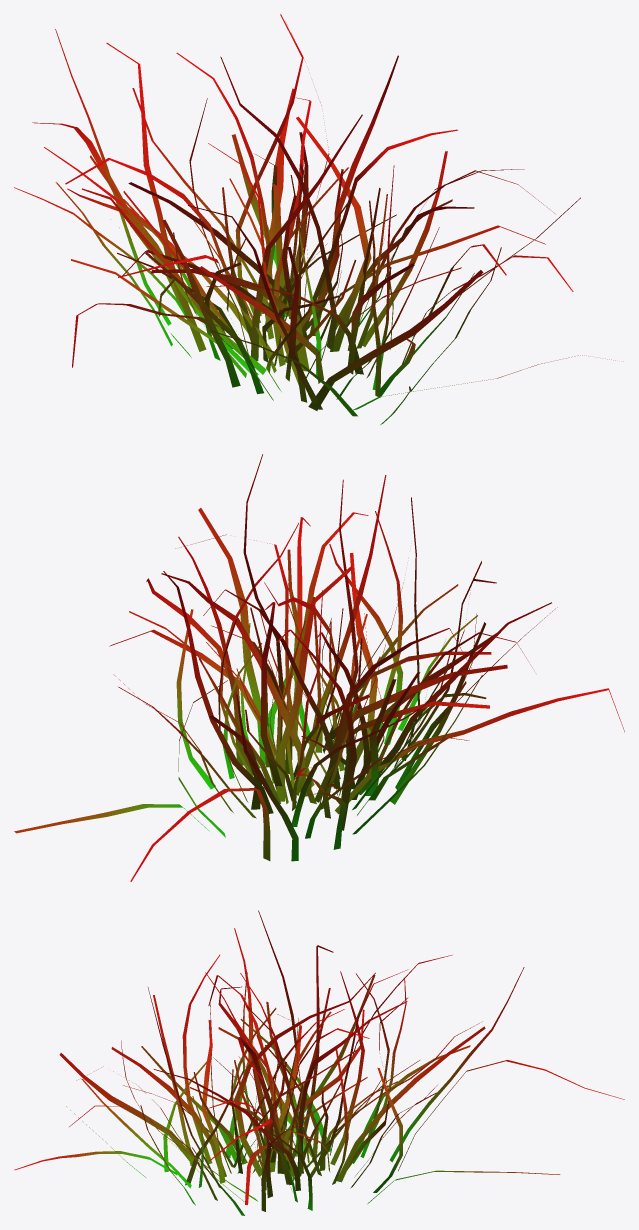
File: Var9_LOD2.fbx
3 renders of one model, top to bottom at view 1: azimuth 30°, elevation 25°; view 2: azimuth 150°, elevation 25°; view 3: azimuth 270°, elevation 25°, orthographic. The views are drawn at different scales.
Parts seen in each view (by area): view 1: _w2sb_Var9_LOD2; view 2: _w2sb_Var9_LOD2; view 3: _w2sb_Var9_LOD2.
Part boxes in pixels (x1=…): _w2sb_Var9_LOD2: x1=14, y1=14, x2=623, y2=424; _w2sb_Var9_LOD2: x1=14, y1=454, x2=624, y2=881; _w2sb_Var9_LOD2: x1=14, y1=910, x2=624, y2=1215.
Bounding box in the file's own units: 19.05 × 11.53 × 26.34.
